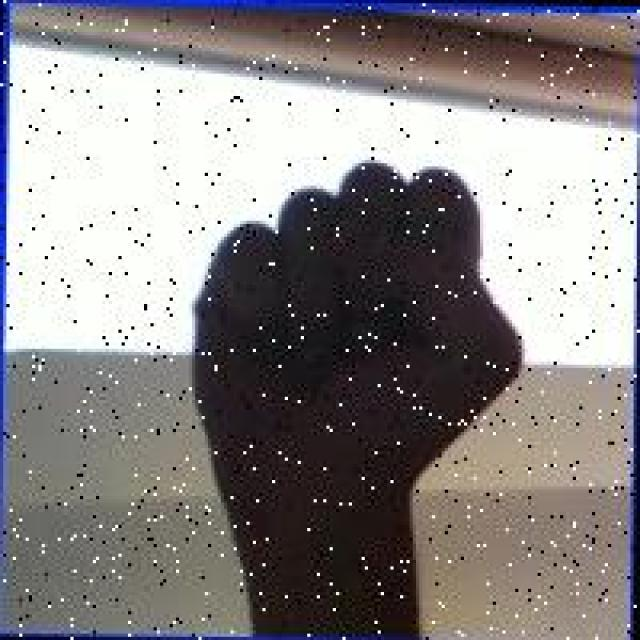S: (184, 147, 533, 493)
